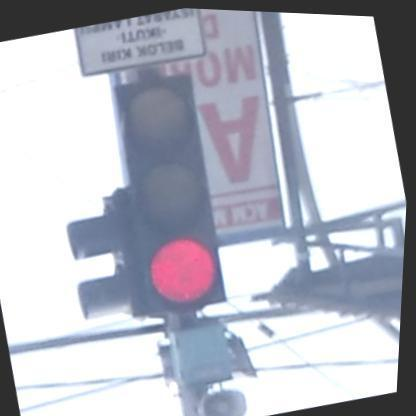red: (100, 66, 241, 317)
